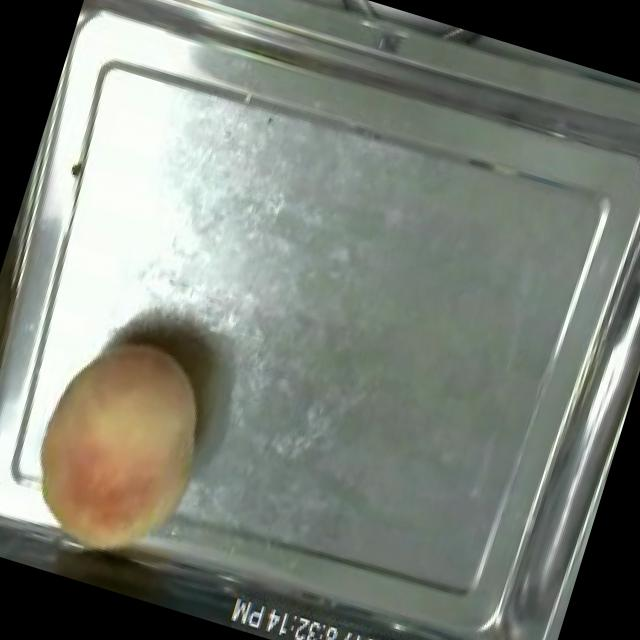Fruit: (3, 311, 235, 577)
